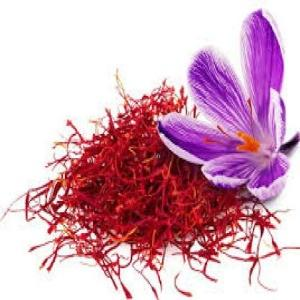Saffron: (168, 14, 300, 199)
